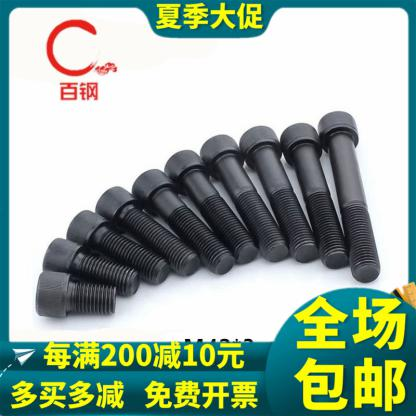FOD: (198, 132, 289, 263), (130, 168, 236, 279), (316, 111, 383, 284), (163, 148, 260, 265), (237, 125, 319, 263), (279, 120, 350, 271), (94, 184, 203, 278), (64, 207, 170, 285), (40, 236, 141, 300), (32, 270, 118, 321)
